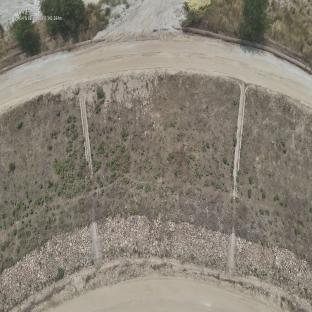rock_toe: (0, 226, 92, 310), (101, 216, 230, 267), (234, 239, 312, 300)
slope_drain: (79, 99, 103, 261), (227, 84, 247, 271)
toe_drain: (24, 260, 309, 312)
